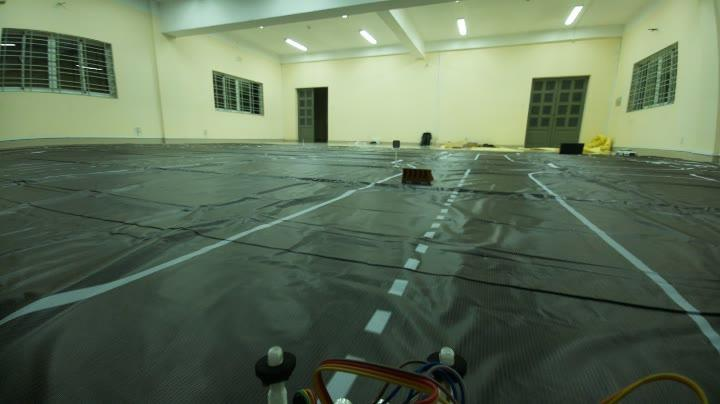roadblock: (397, 166, 442, 192)
